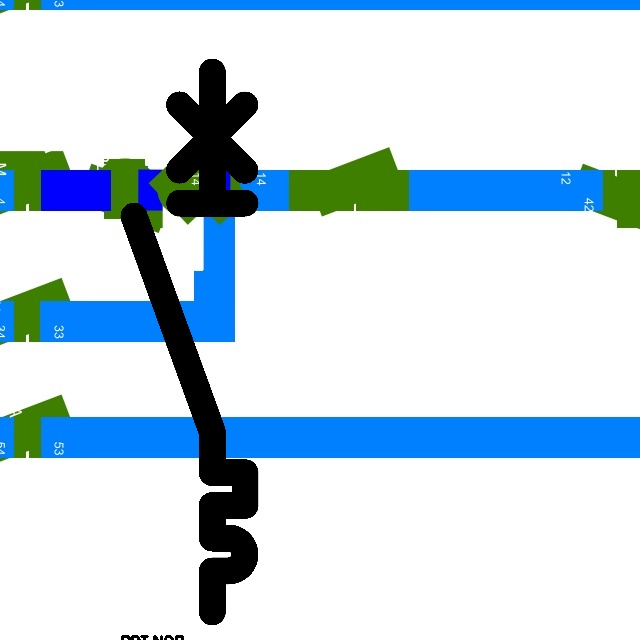interruptor_termomagnetico: (120, 58, 259, 626)
